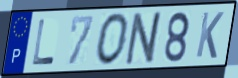7: (67, 14, 95, 68)
8: (164, 10, 191, 64)
K: (194, 10, 225, 60)
L: (31, 18, 56, 67)
N: (123, 10, 166, 67)
O: (94, 11, 131, 67)
